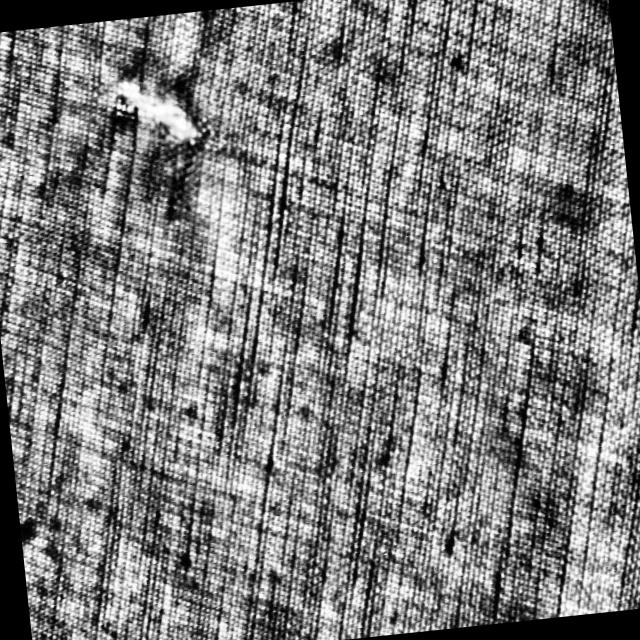cut: (112, 64, 215, 168)
